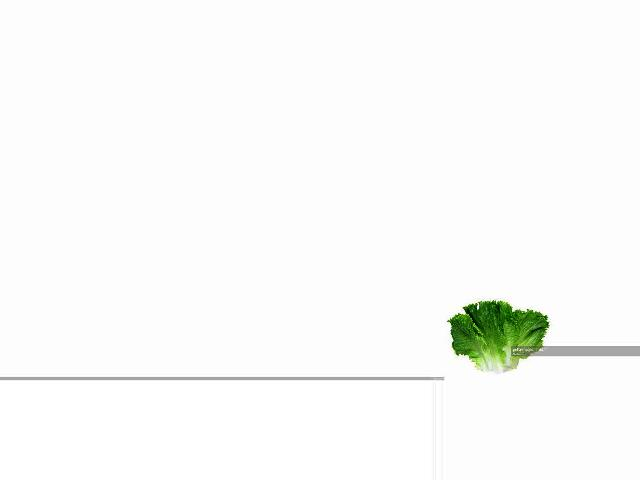lettuce: (449, 302, 544, 374)
